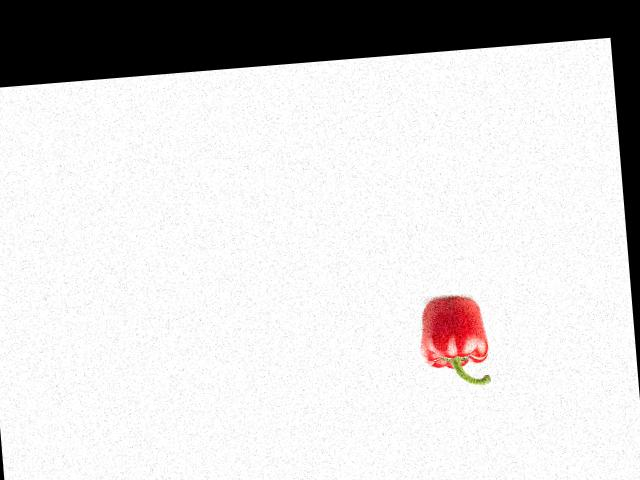bell_pepper: (418, 293, 493, 390)
